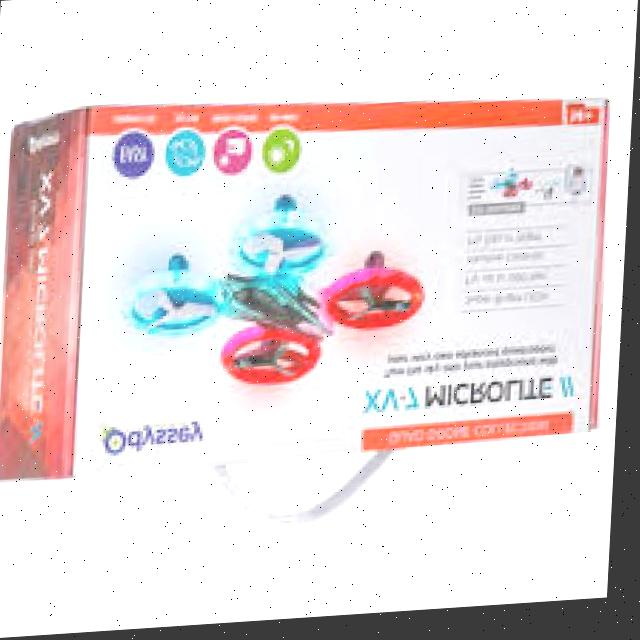drone: (104, 174, 447, 404)
